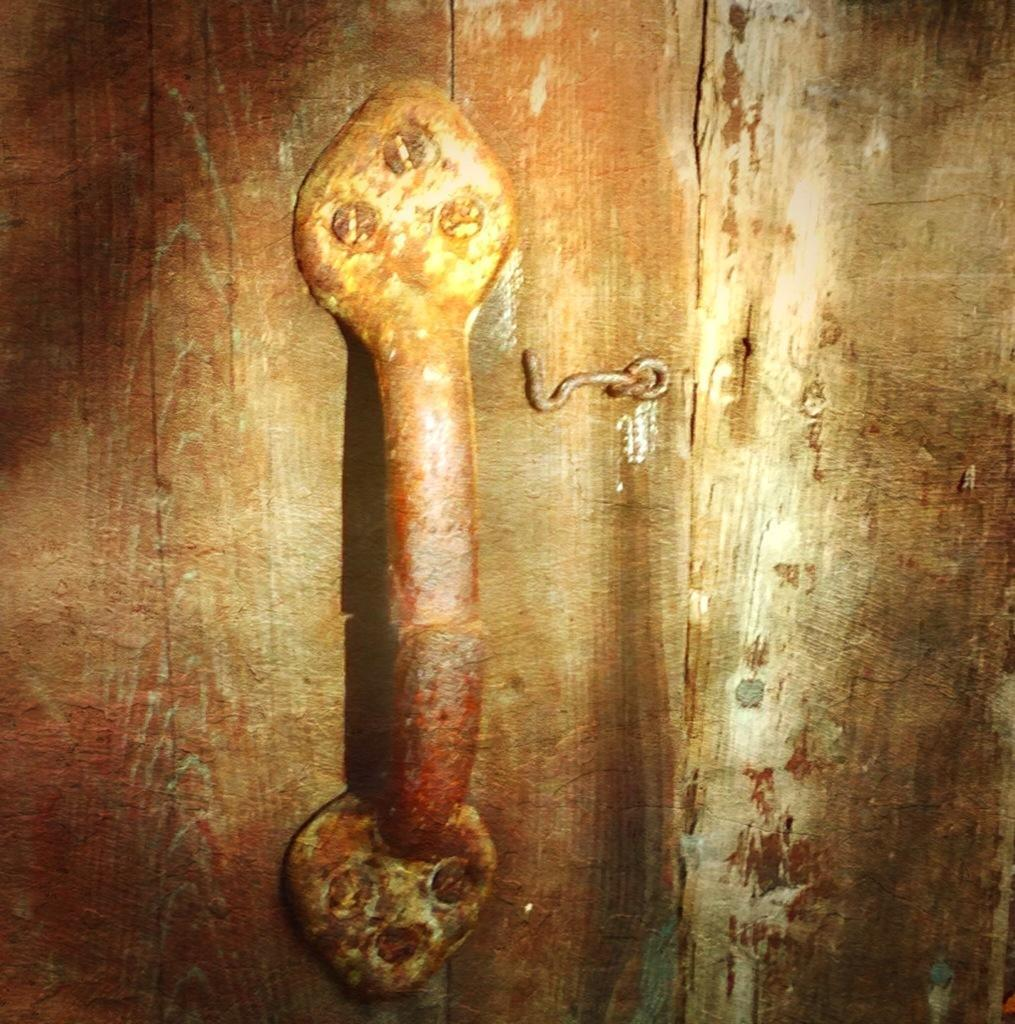handle: (288, 76, 500, 1000)
